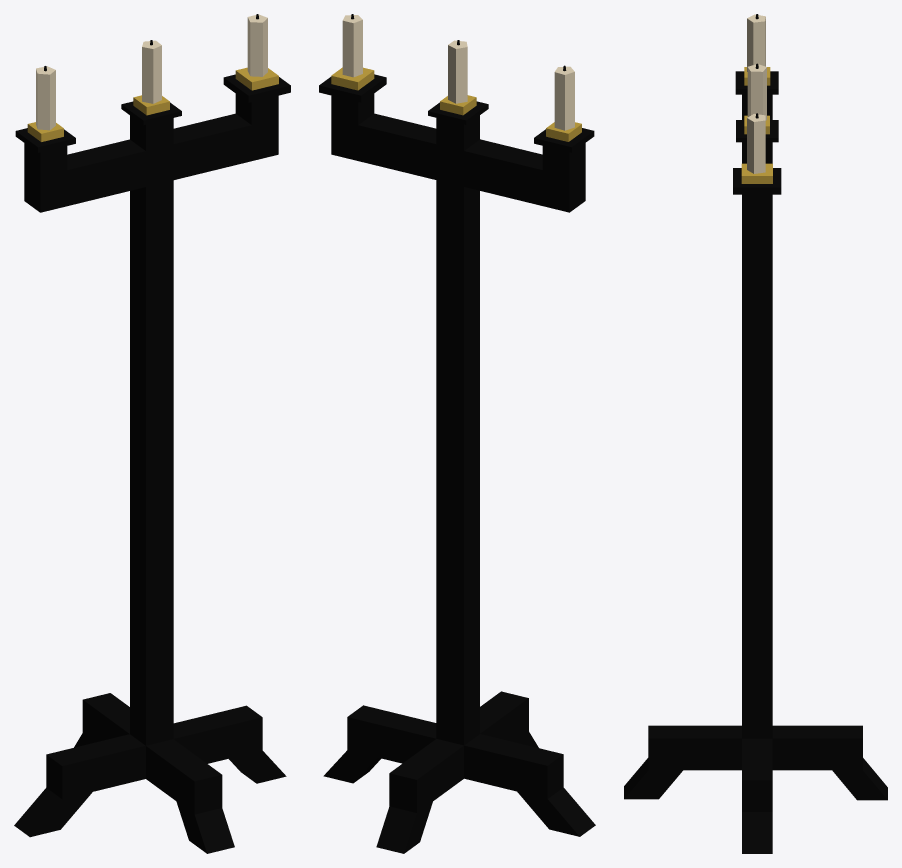
File: CANDLEHOLDER_V1.fbx
3 views of the same model, side by side, from view 1: azimuth 30°, elevation 25°; view 2: azimuth 150°, elevation 25°; view 3: azimuth 270°, elevation 25° (orthographic). The views are drawn at different scales.
Visible parts, largest first — view 1: Cube; view 2: Cube; view 3: Cube.
Part boxes in pixels (bbox=[...]): Cube: bbox=[14, 14, 290, 853]; Cube: bbox=[319, 14, 595, 853]; Cube: bbox=[624, 14, 887, 853].
Size of the model in its own units: 55.67 by 158 by 51.68.
